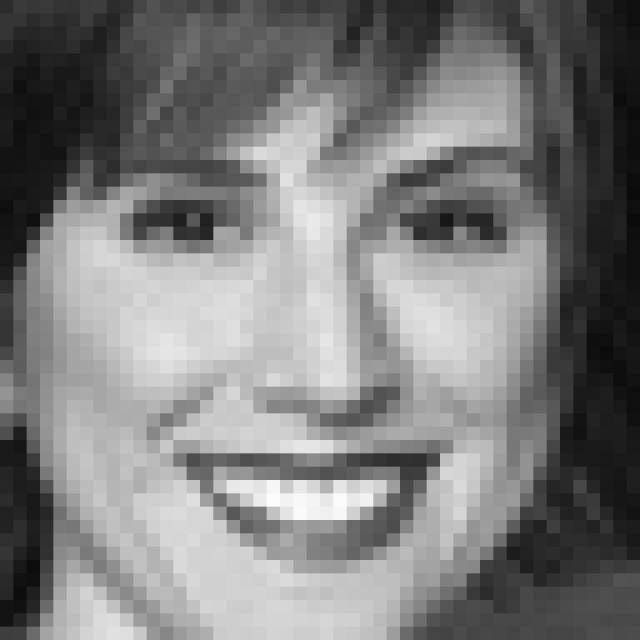happy: (79, 138, 550, 579)
